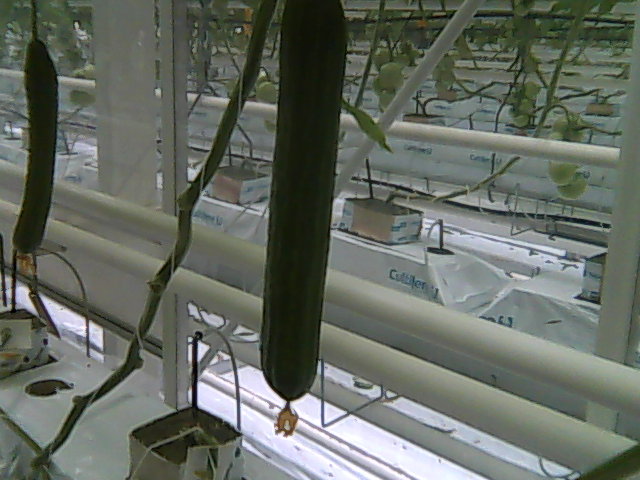concombre: (257, 1, 349, 439), (7, 34, 61, 276)
